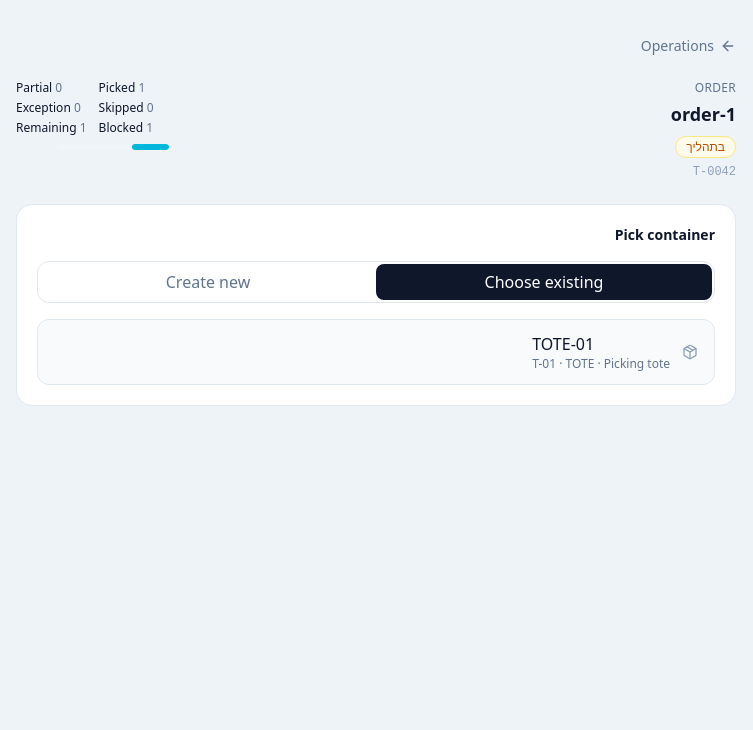
Test: PickTaskPage › renders one actionable step as the primary guided card with a sticky mobile CTA
This screenshot has width=753, height=730.
Click the button "TOTE-01 T-01 · TOTE · Picking tote".
click(563, 344)  # box [37,319,715,385]
(page scrolled)
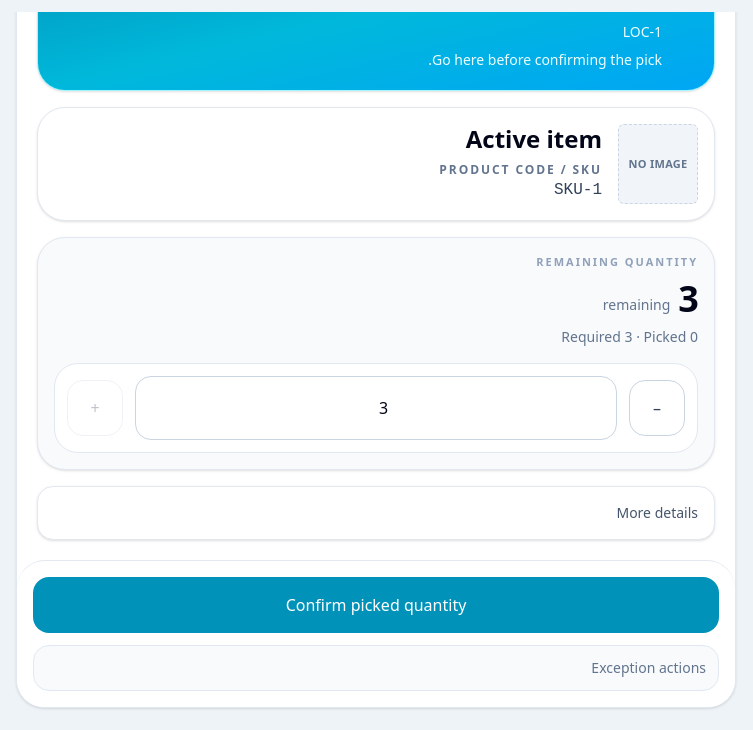
expect the element with test id "guided-pick-step-card" is shown: met
expect the element with test id "guided-pick-sticky-actions" is shown: met, box [17,560,735,706]
expect the text "Active item" is shown: met, box [466,122,602,155]
Click the heading "More details".
click(657, 512)  # box [616,502,698,522]
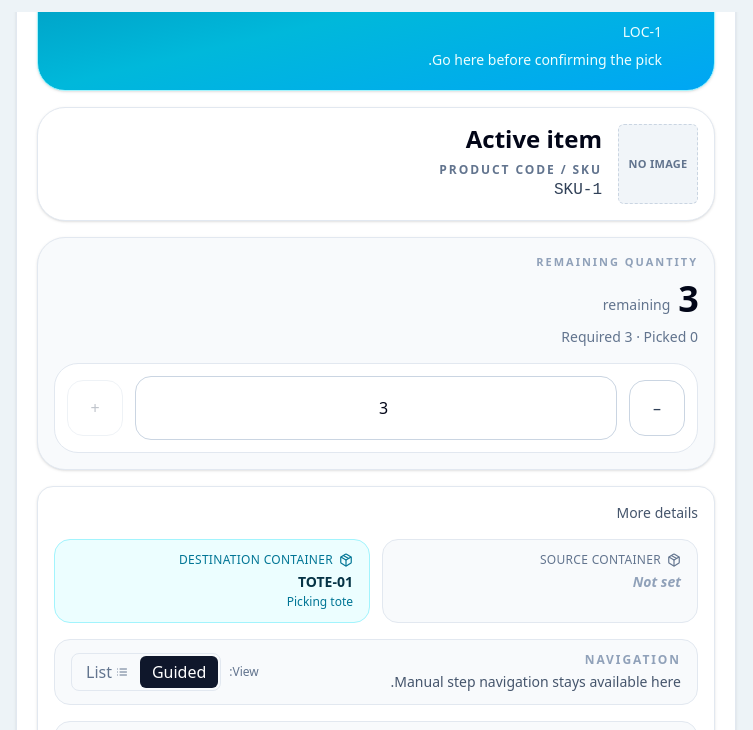
expect the text "Active item" is shown: met, box [466,122,602,155]
expect the text "Source container" is shown: met, box [540,550,681,568]
expect the text "Destination container" is shown: met, box [179,550,353,568]
